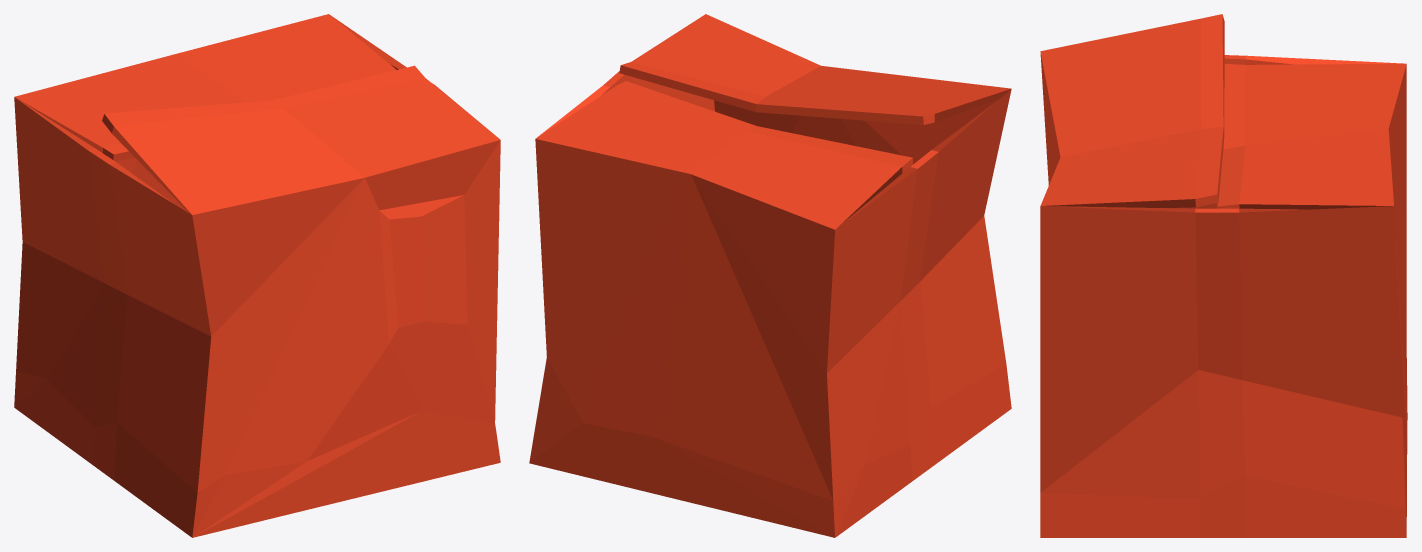
File: SM_Box_A_Smashed_City.fbx
The picture shows the model from 3 angles, left to right: view 1: azimuth 30°, elevation 25°; view 2: azimuth 150°, elevation 25°; view 3: azimuth 270°, elevation 25°; orthographic projection. The views are drawn at different scales.
Parts seen in each view (by area): view 1: SM_Box_A_Smashed_City; view 2: SM_Box_A_Smashed_City; view 3: SM_Box_A_Smashed_City.
Part boxes in pixels (box(x1,y1,x2,y2)): SM_Box_A_Smashed_City: box(14, 14, 500, 537); SM_Box_A_Smashed_City: box(529, 14, 1011, 537); SM_Box_A_Smashed_City: box(1040, 14, 1407, 537).
Size of the model in its own units: 0.4285 by 0.4564 by 0.411.
